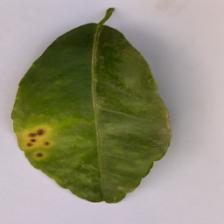canker: (14, 85, 124, 176)
